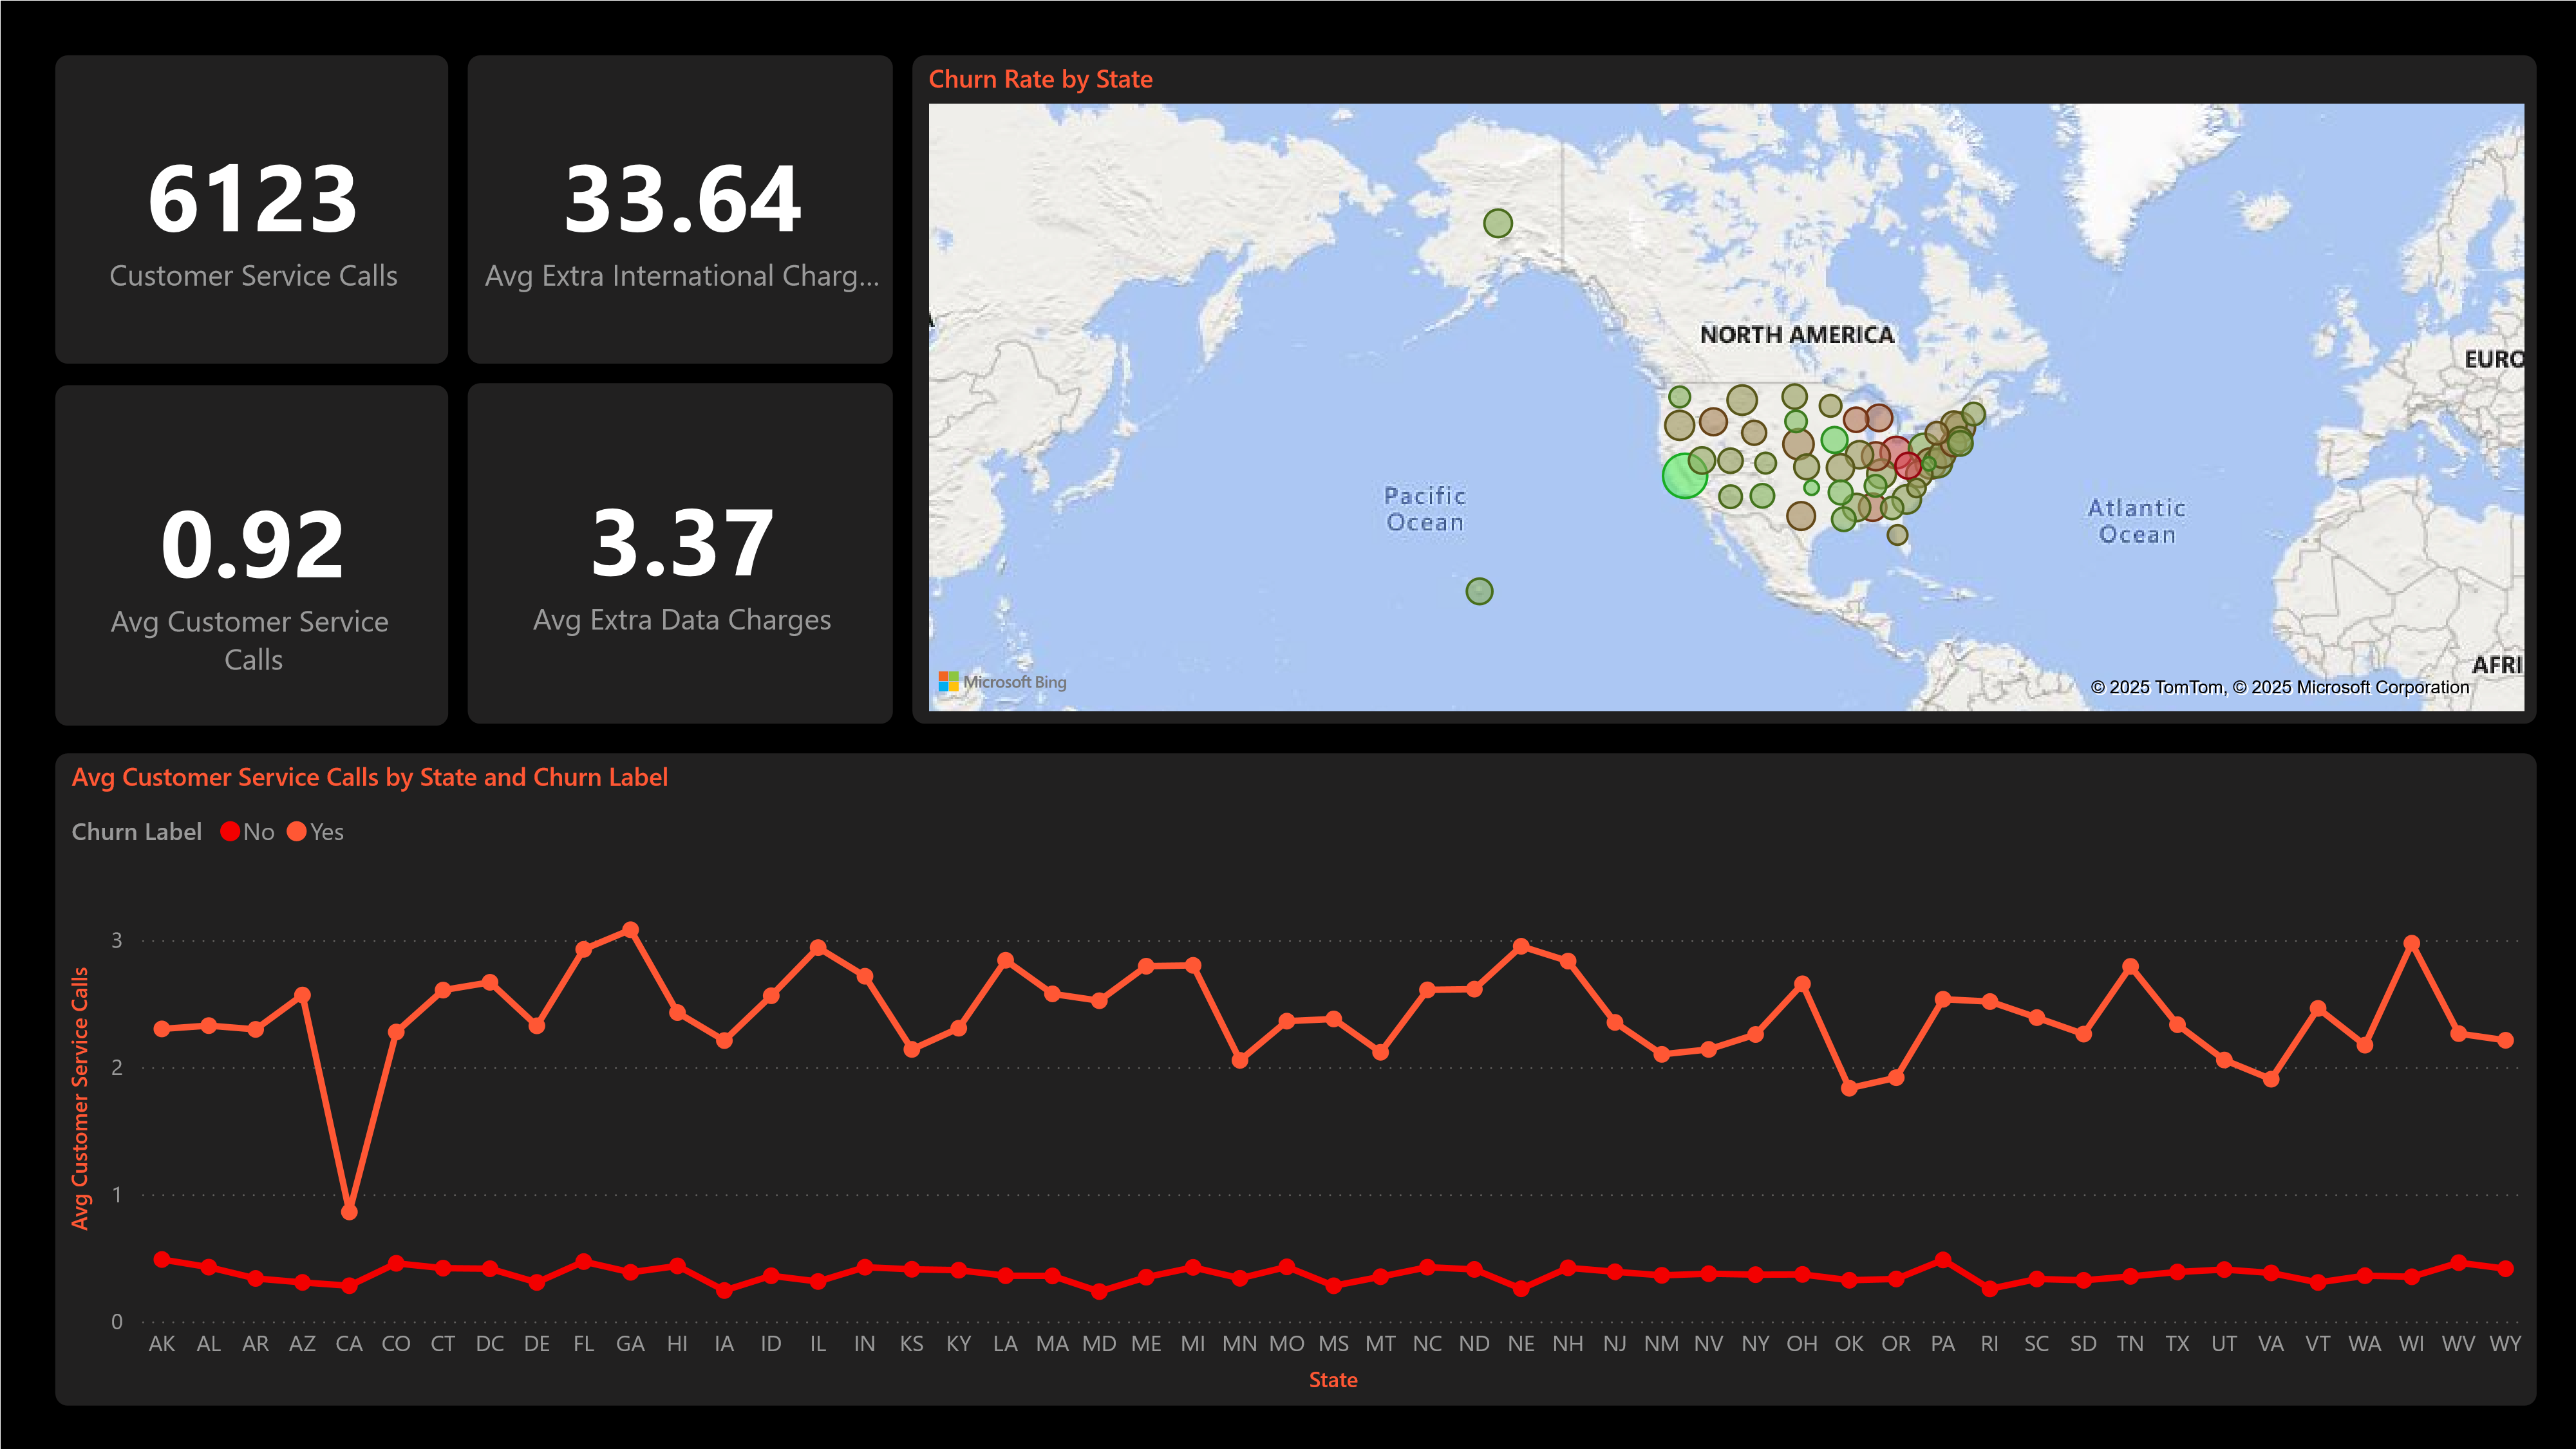

Layout of this report page (visuals, bound fields, positions):
{"tool":"powerbi","page":{"name":"Insights","canvas":[1280,720],"ordinal":9},"visuals":[{"type":"card","fields":{"Values":["Sum(Databel - Data.Customer Service Calls)"]},"box":[27.3,27.3,194.4,152.9],"z":0},{"type":"card","fields":{"Values":["Databel - Data.Avg Customer Service Calls"]},"box":[27.3,191.4,194.4,169.1],"z":1000},{"type":"card","fields":{"Values":["Databel - Data.Avg Extra International Charges"]},"box":[231.9,27.3,211.6,152.9],"z":2000},{"type":"card","fields":{"Values":["Databel - Data.Avg Extra Data Charges"]},"box":[231.9,190.3,211.6,169.1],"z":3000},{"type":"lineChart","fields":{"Category":["Databel - Data.State"],"Y":["Databel - Data.Avg Customer Service Calls"],"Series":["Databel - Data.Churn Label"]},"box":[27.3,373.6,1232.2,324],"z":4000},{"type":"map","fields":{"Category":["Databel - Data.State"],"Size":["Databel - Data.Churn Rate"]},"box":[452.6,27.3,806.9,332.1],"z":5000}]}

Visuals, with their boxes in screenshot pixels (x1, y1, x2, y2), scaled from the page's 1280x720 canvas onto the 2576x1449 screenshot:
card - Sum(Databel - Data.Customer Service Calls): (x1=55, y1=55, x2=446, y2=362)
card - Databel - Data.Avg Customer Service Calls: (x1=55, y1=385, x2=446, y2=725)
card - Databel - Data.Avg Extra International Charges: (x1=467, y1=55, x2=892, y2=362)
card - Databel - Data.Avg Extra Data Charges: (x1=467, y1=383, x2=892, y2=724)
lineChart - Databel - Data.State x Databel - Data.Avg Customer Service Calls: (x1=55, y1=752, x2=2535, y2=1404)
map - Databel - Data.State x Databel - Data.Churn Rate: (x1=911, y1=55, x2=2535, y2=724)
